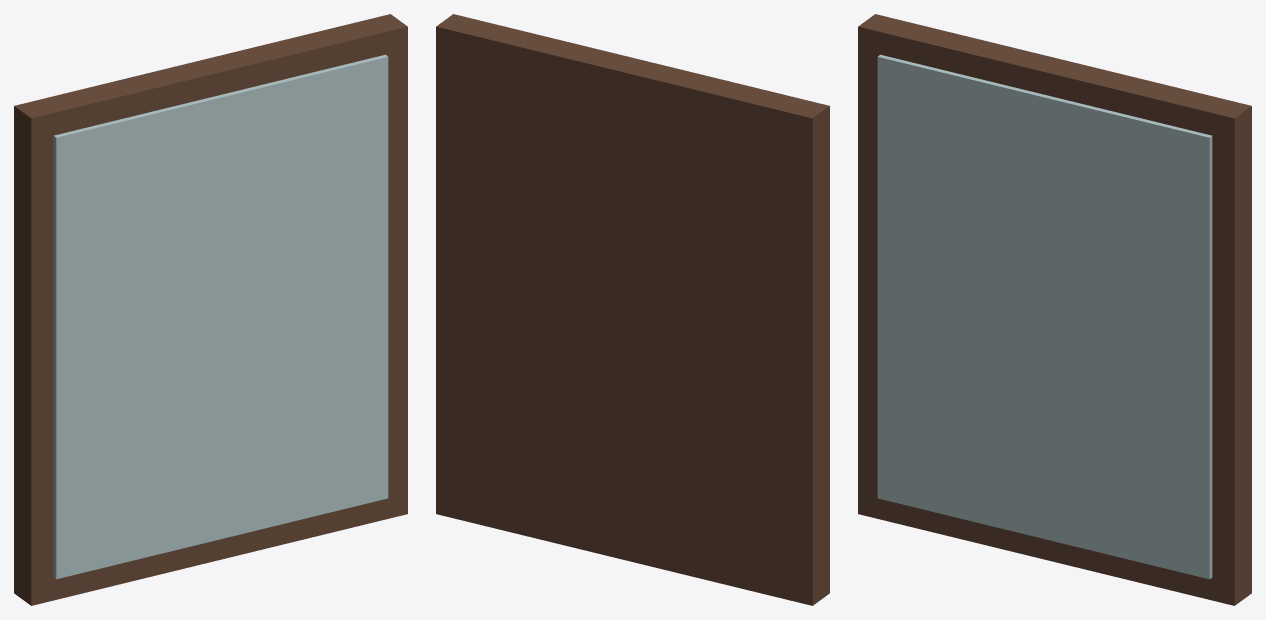
The model's file is mirror.glb.
3 renders of one model, left to right at view 1: azimuth 30°, elevation 25°; view 2: azimuth 150°, elevation 25°; view 3: azimuth 330°, elevation 25°, orthographic.
Parts seen in each view (by area): view 1: Mirror face, Mirror frame; view 2: Mirror frame; view 3: Mirror face, Mirror frame.
Boxes of the visible parts, x1,y1,x2,y2 form: Mirror face: (53, 54, 388, 579); Mirror frame: (14, 14, 407, 605); Mirror frame: (436, 14, 829, 605); Mirror face: (877, 54, 1212, 579); Mirror frame: (858, 14, 1251, 605).
Size of the model in its own units: 0.695 by 0.86 by 0.064.
